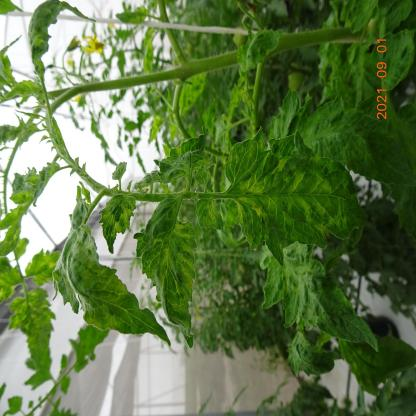T_L_R: (223, 130, 367, 266), (54, 199, 170, 343), (261, 243, 378, 349), (138, 196, 197, 348), (157, 135, 215, 192), (100, 195, 137, 255)
